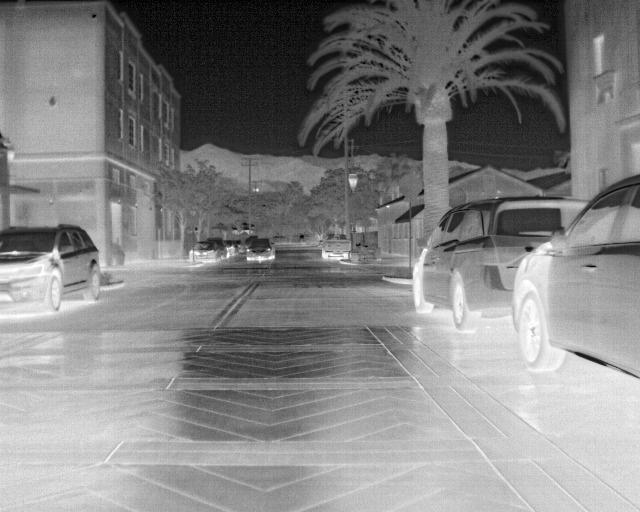bicycle: (512, 171, 638, 375), (411, 195, 593, 336), (0, 224, 99, 315), (319, 230, 353, 261), (243, 235, 277, 263), (188, 241, 219, 262), (208, 237, 227, 259)
